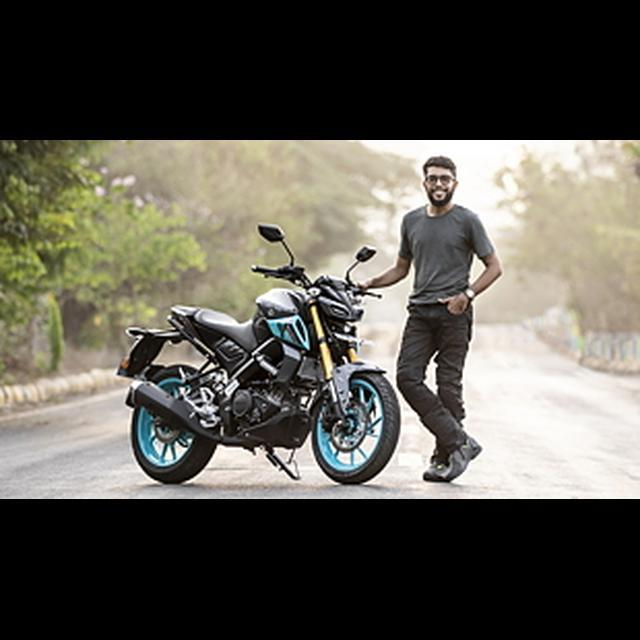motorcycle: (115, 219, 404, 493)
